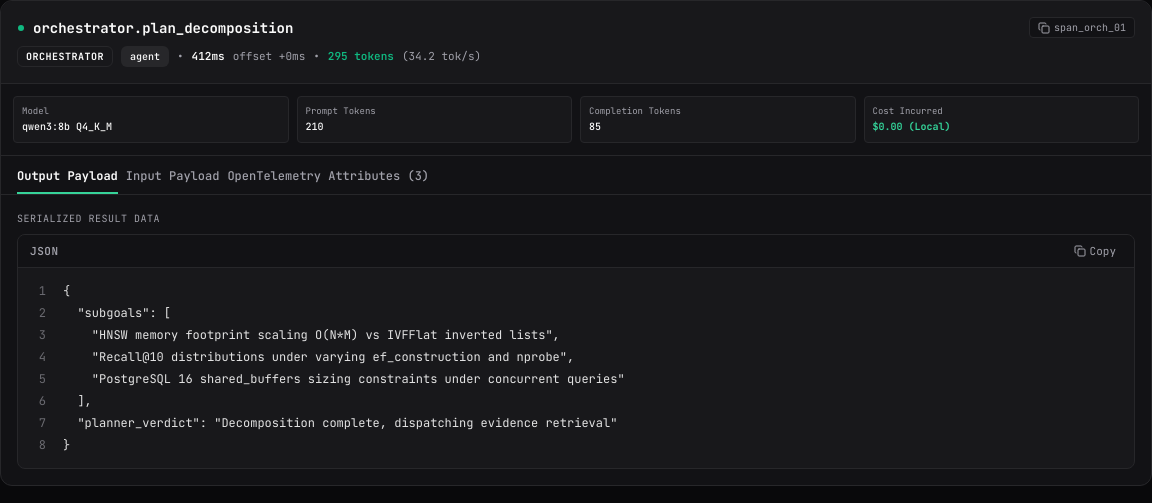
Scenario: Agent Trace Components › switches tabs in SpanInspector
Click the button "Input Payload" at (173, 180), box [126,168,219,194]
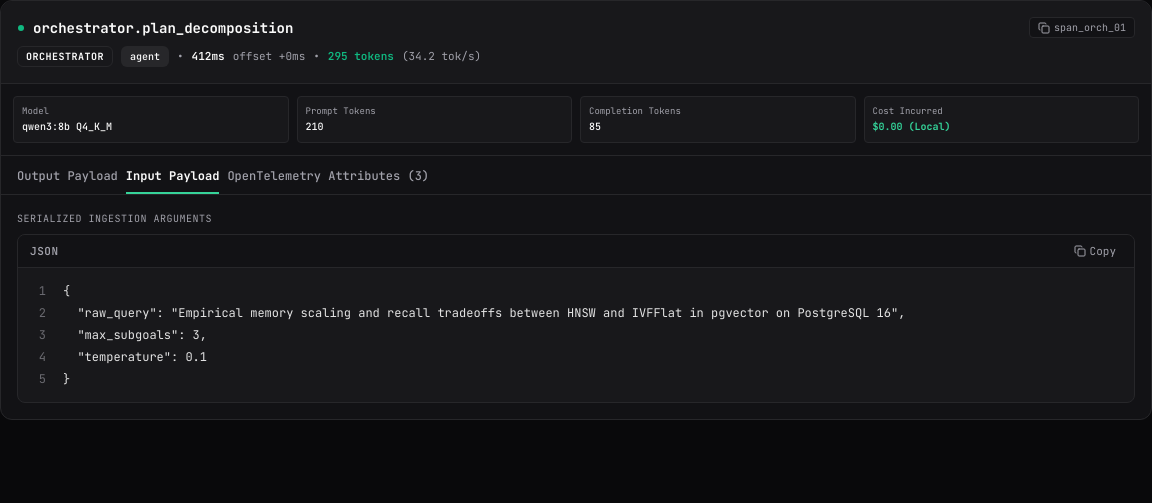
expect the text "Serialized Ingestion Arguments" is shown: met, box [17,212,212,224]
